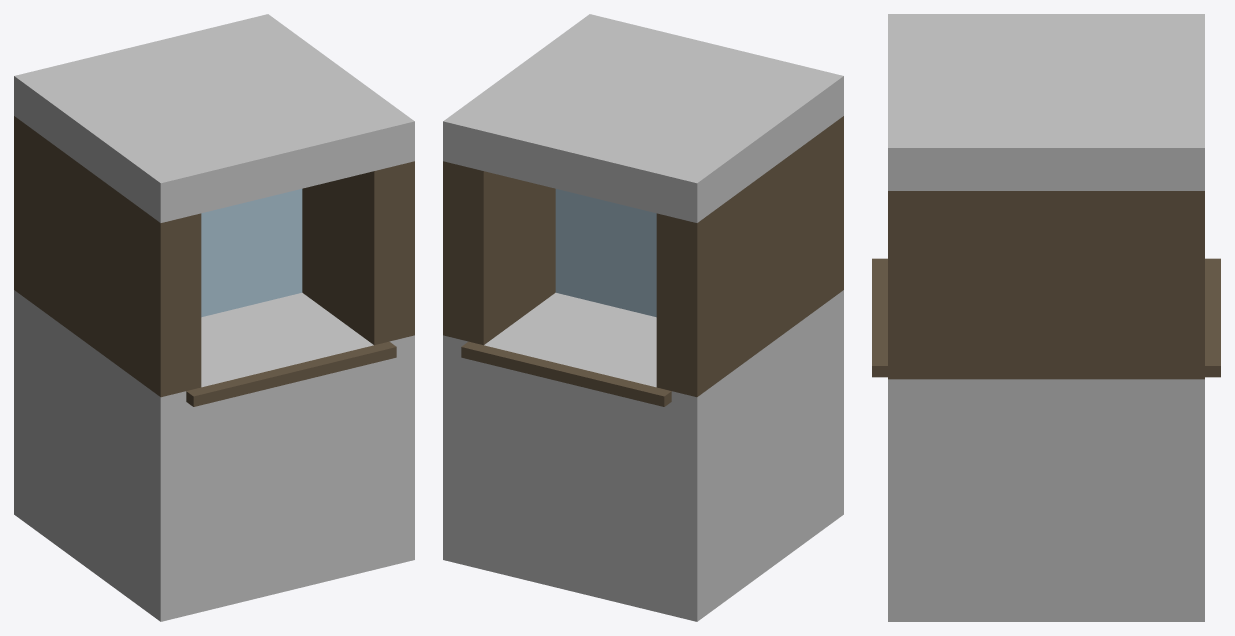
The model's file is pz_window_wall.obj.
The picture shows the model from 3 angles, left to right: view 1: azimuth 30°, elevation 25°; view 2: azimuth 150°, elevation 25°; view 3: azimuth 270°, elevation 25°; orthographic projection. The views are drawn at different scales.
Bounding box in the file's own units: 1 × 1.65 × 1.1.
